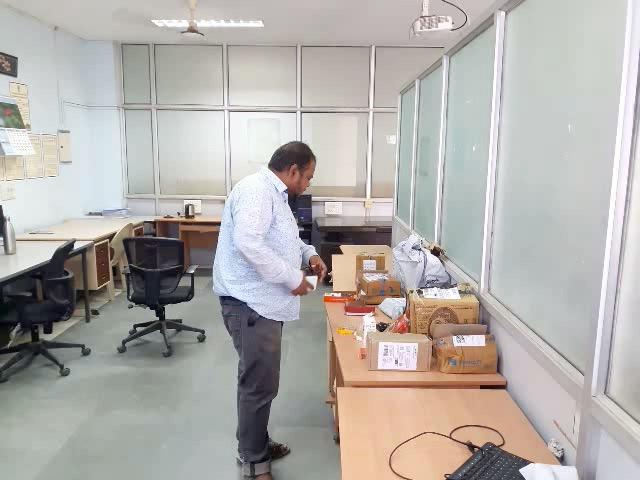shoplifting: (189, 238, 376, 392)
